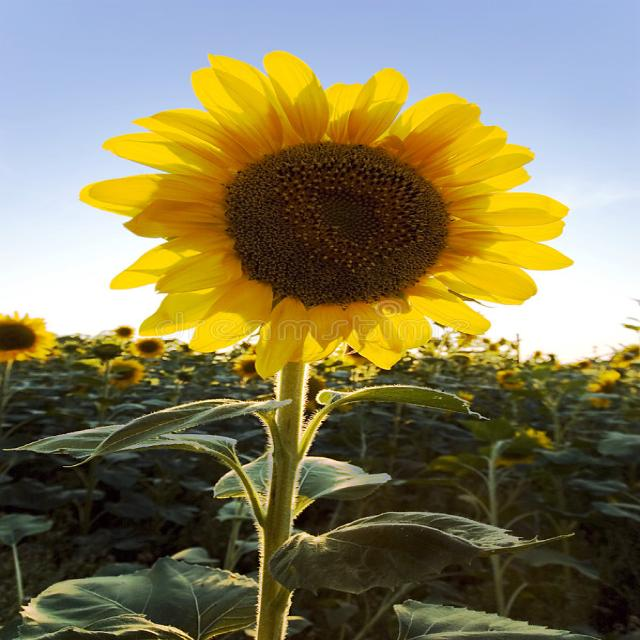sunflower: (60, 41, 585, 374)
